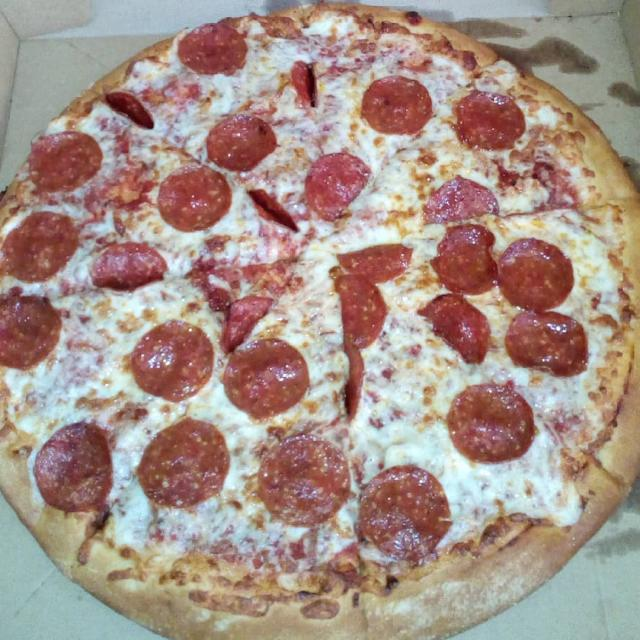pepperoni: (358, 460, 455, 563), (255, 434, 352, 526), (133, 418, 233, 505), (32, 417, 118, 517), (132, 314, 216, 404), (448, 378, 537, 462), (222, 337, 312, 419), (503, 307, 591, 380), (0, 205, 82, 282), (496, 232, 576, 310), (419, 288, 494, 368), (155, 160, 236, 233), (0, 286, 62, 375), (449, 85, 530, 153), (302, 146, 370, 222), (200, 108, 278, 174), (360, 70, 432, 140), (429, 225, 499, 293), (89, 238, 168, 298), (329, 271, 388, 351), (186, 240, 247, 317), (29, 134, 102, 194), (422, 174, 505, 224), (327, 240, 416, 284), (177, 24, 247, 77), (247, 183, 304, 238), (97, 82, 157, 134), (216, 288, 267, 348), (339, 346, 366, 421), (289, 53, 322, 111)
pizza: (0, 4, 640, 640)
